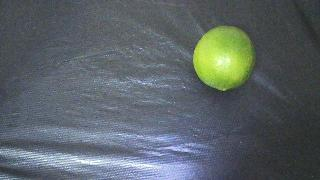LOCAL: (193, 26, 255, 91)
